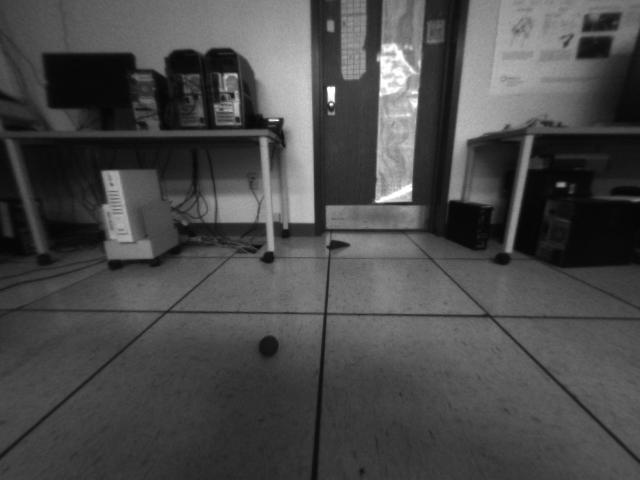dogtoy: (252, 330, 284, 363)
